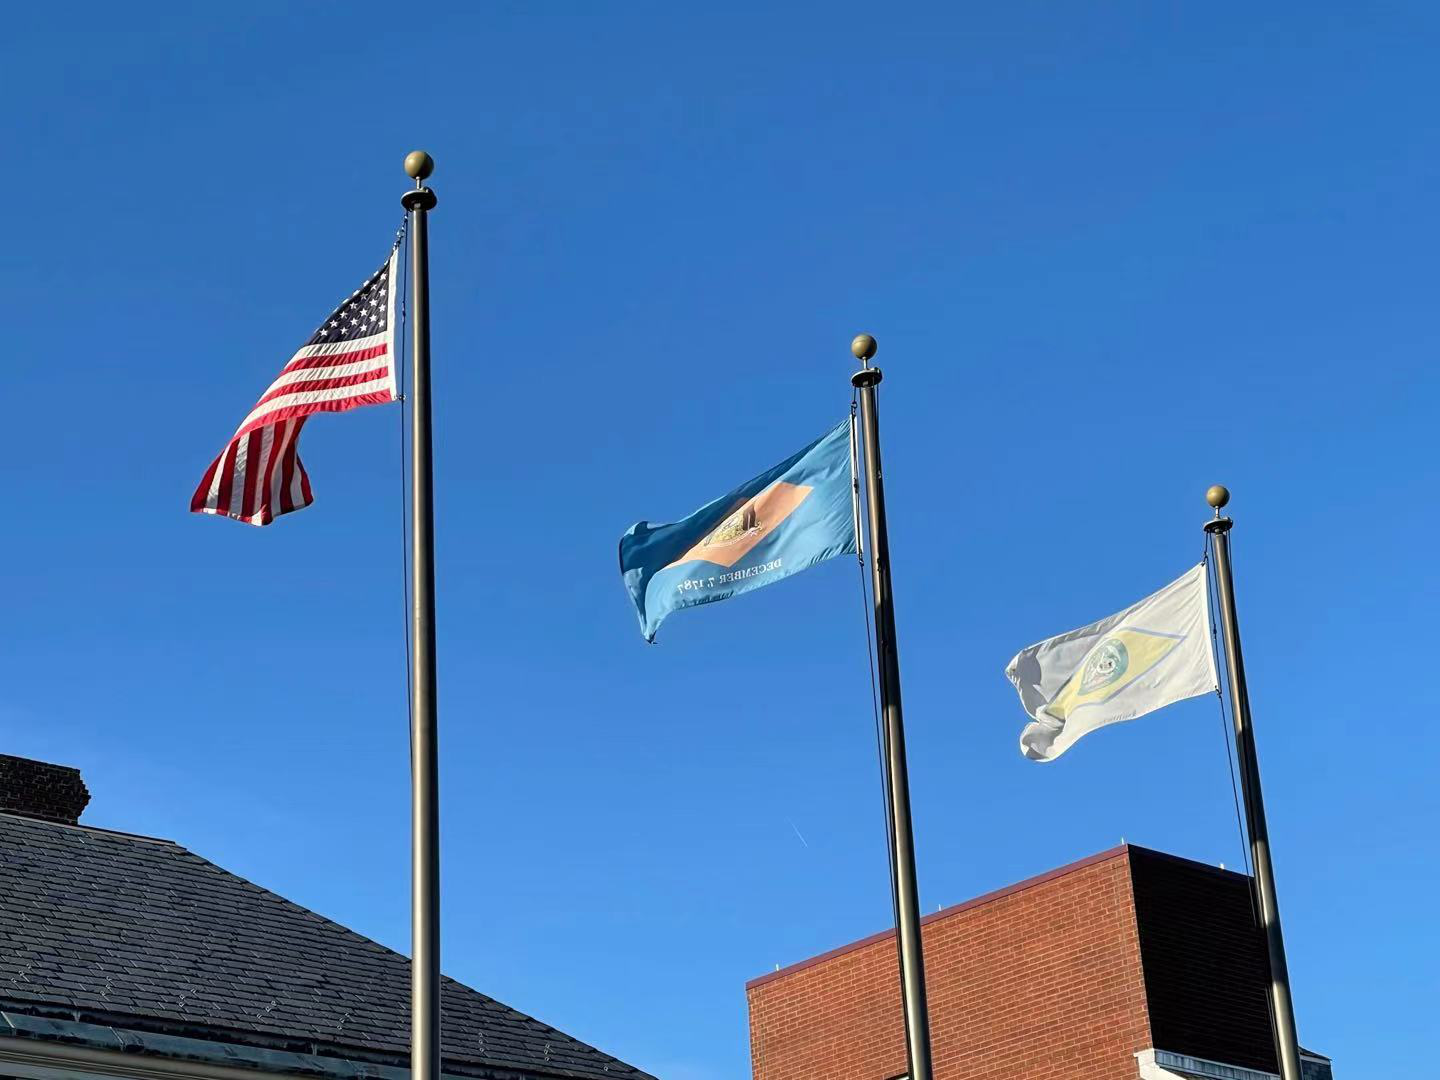America flag: (192, 237, 404, 525)
Delaware flag: (622, 398, 869, 640)
